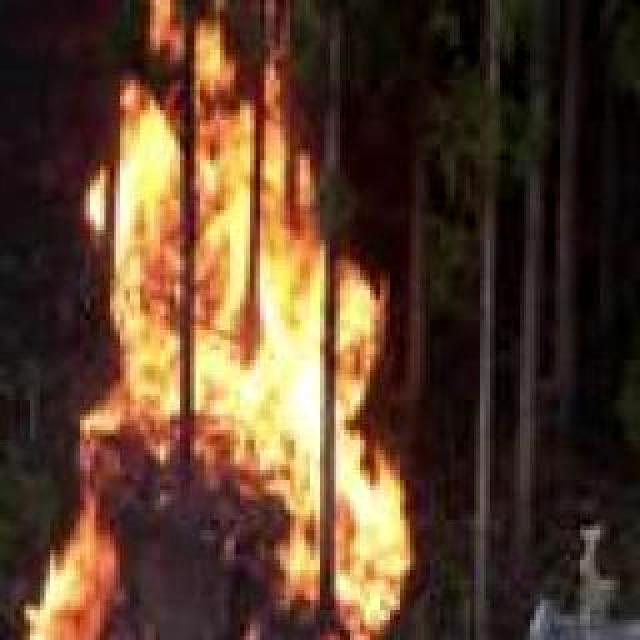fire: (4, 0, 410, 640)
